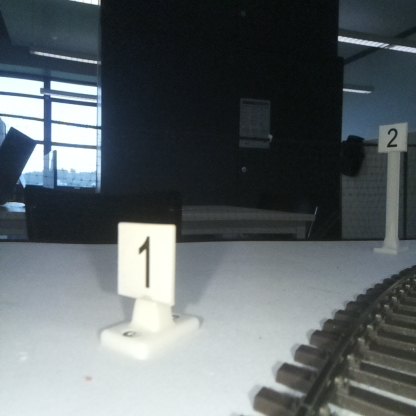white-info-2: (378, 121, 407, 250)
white-stop-1: (117, 223, 175, 347)
